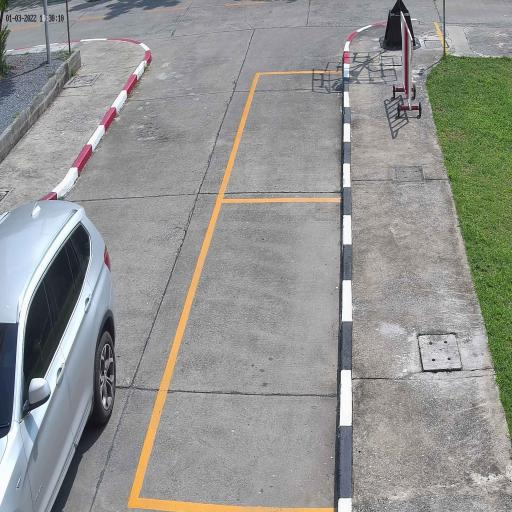car: (0, 198, 119, 512)
